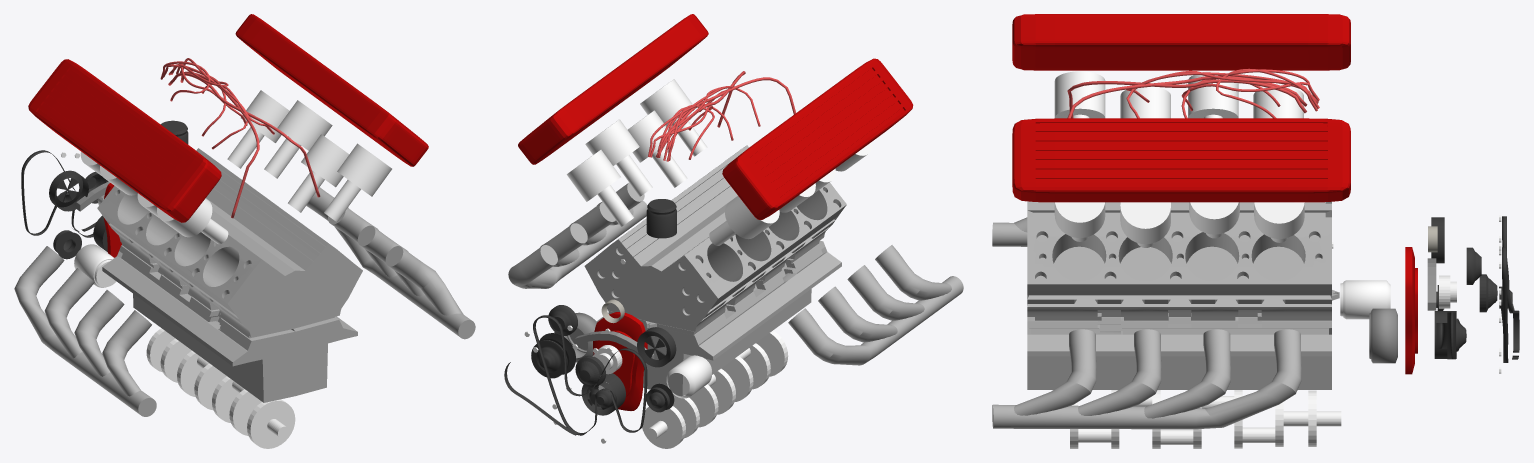
The model's file is Motor-AR.gltf.
The picture shows the model from 3 angles, left to right: view 1: azimuth 30°, elevation 25°; view 2: azimuth 150°, elevation 25°; view 3: azimuth 270°, elevation 25°; orthographic projection. The views are drawn at different scales.
Parts seen in each view (by area): view 1: Cylinder009, Cube002, Cylinder008, Cube003, Cylinder028, Cylinder037, Cylinder016, Cylinder033, Cylinder036, Cylinder034, Cylinder035, Cylinder032 (+4 smaller); view 2: Cylinder009, Cube002, Cylinder008, Cube003, Cylinder028, Cylinder037, Cylinder016, Cube, Cylinder035, Cylinder036, Cylinder034, Cylinder033 (+13 smaller); view 3: Cylinder009, Cube003, Cube002, Cylinder037, Cylinder028, Cylinder016, Cylinder032, Cylinder034, Cylinder013, Cylinder029, Cylinder035, Cylinder033 (+11 smaller).
Boxes of the visible parts, x1,y1,x2,y2 form: Cylinder009: (97, 148, 362, 402); Cube002: (28, 59, 221, 222); Cylinder008: (14, 246, 156, 416); Cube003: (235, 14, 428, 166); Cylinder028: (146, 328, 295, 448); Cylinder037: (306, 187, 475, 339); Cylinder016: (160, 58, 320, 218); Cylinder033: (324, 143, 391, 221); Cylinder036: (264, 100, 332, 178); Cylinder034: (288, 134, 349, 212); Cylinder035: (227, 90, 289, 168); Cylinder032: (157, 198, 228, 244); Cylinder009: (584, 145, 846, 396); Cube002: (722, 58, 913, 219); Cylinder008: (788, 245, 963, 365); Cube003: (518, 14, 708, 164); Cylinder028: (641, 330, 788, 448); Cylinder037: (508, 183, 647, 288); Cylinder016: (648, 71, 795, 161); Cube: (593, 312, 647, 410); Cylinder035: (566, 149, 633, 226); Cylinder036: (585, 119, 652, 196); Cylinder034: (628, 110, 687, 187); Cylinder033: (640, 79, 707, 156); Cylinder009: (1027, 201, 1339, 389); Cube003: (1012, 118, 1350, 202); Cube002: (1012, 14, 1350, 70); Cylinder037: (992, 329, 1301, 429); Cylinder028: (1070, 390, 1341, 448); Cylinder016: (1067, 68, 1319, 118); Cylinder032: (1054, 71, 1105, 118); Cylinder034: (1120, 202, 1170, 247); Cylinder013: (1340, 280, 1390, 319); Cylinder029: (1188, 71, 1238, 118); Cylinder035: (1254, 202, 1304, 242); Cylinder033: (1054, 202, 1105, 241).
Size of the model in its own units: 0.1375 by 0.1267 by 0.1588.
